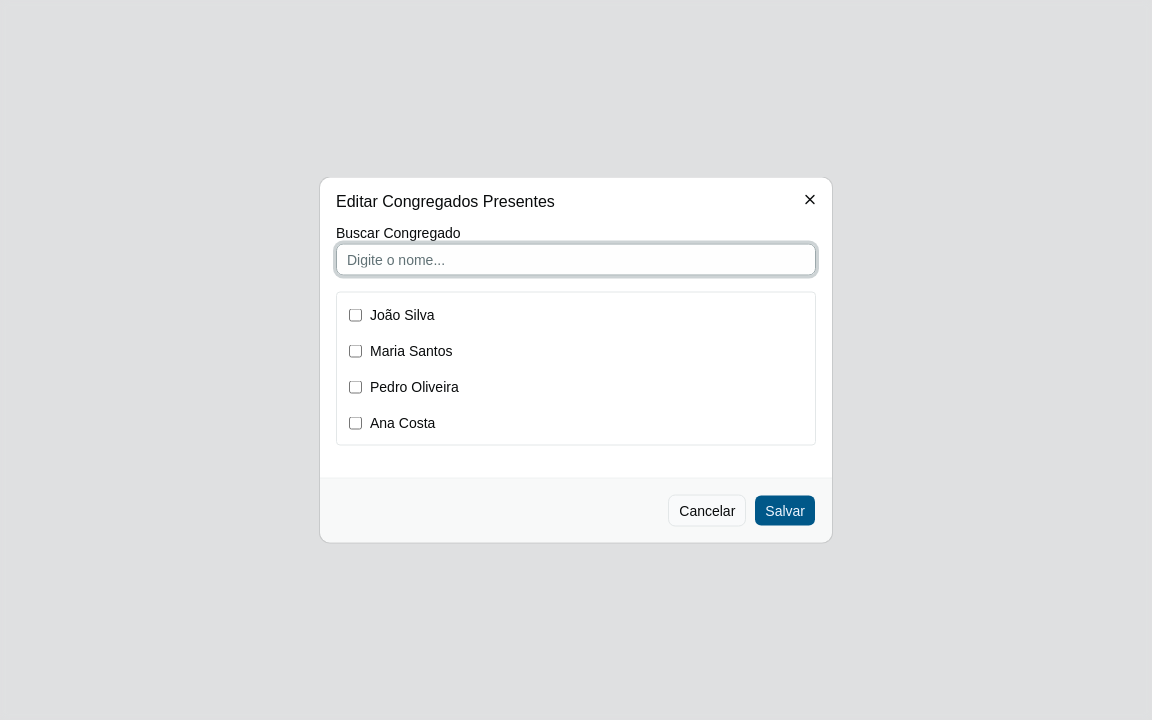
EditAttendersDialog › filters attenders by search query
Type "João" into the field with placeholder "Digite o nome..." at {"x": 576, "y": 260}, box [336,244,816,276]
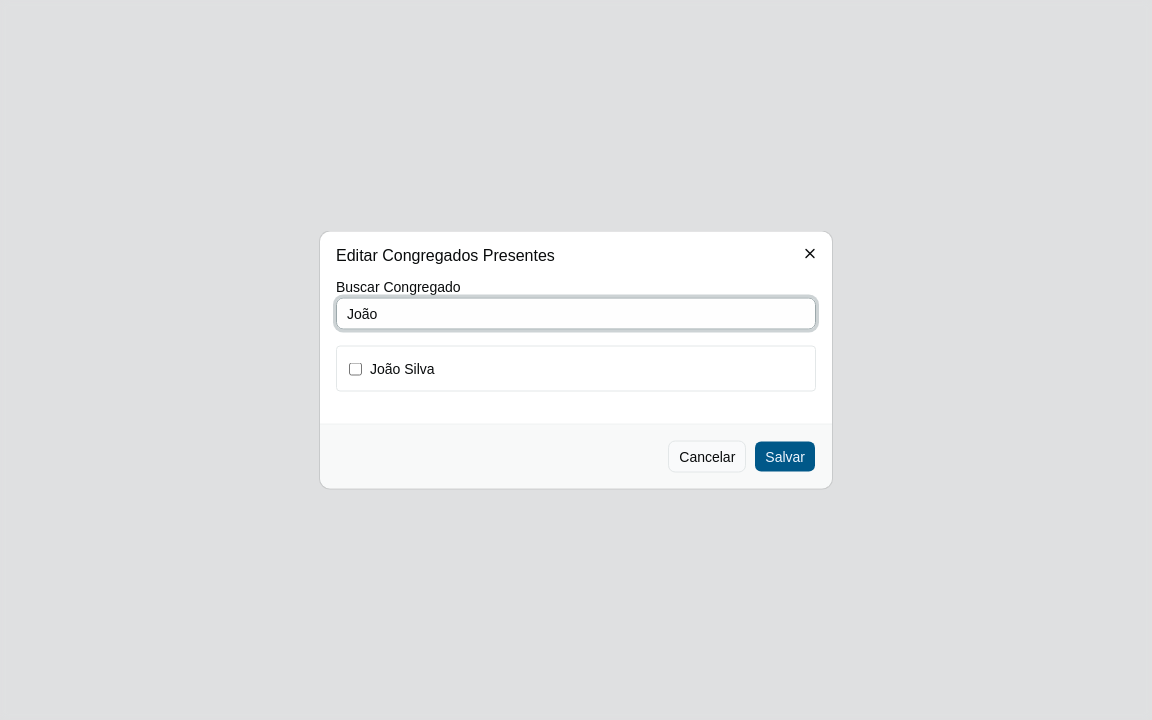
Expected: the text "João Silva" is shown, [370,360,435,376]
Now the text "Maria Santos" is gone
